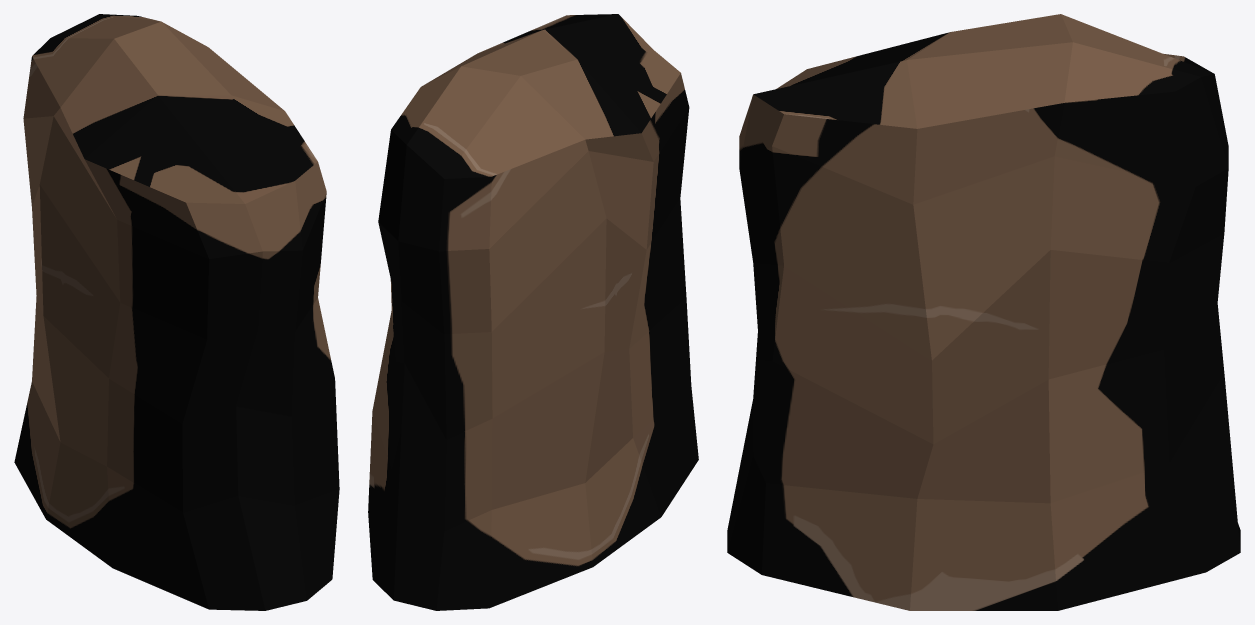
File: WallMedium02.fbx
The picture shows the model from 3 angles, left to right: view 1: azimuth 30°, elevation 25°; view 2: azimuth 150°, elevation 25°; view 3: azimuth 270°, elevation 25°; orthographic projection. The views are drawn at different scales.
Parts seen in each view (by area): view 1: pCube2; view 2: pCube2; view 3: pCube2.
Part boxes in pixels (<box>): pCube2: <box>14,14,339,610</box>; pCube2: <box>368,14,698,610</box>; pCube2: <box>727,14,1240,610</box>.
Bounding box in the file's own units: 2.21 × 4.27 × 3.85.
Materials: 1 (1 with a texture image).
